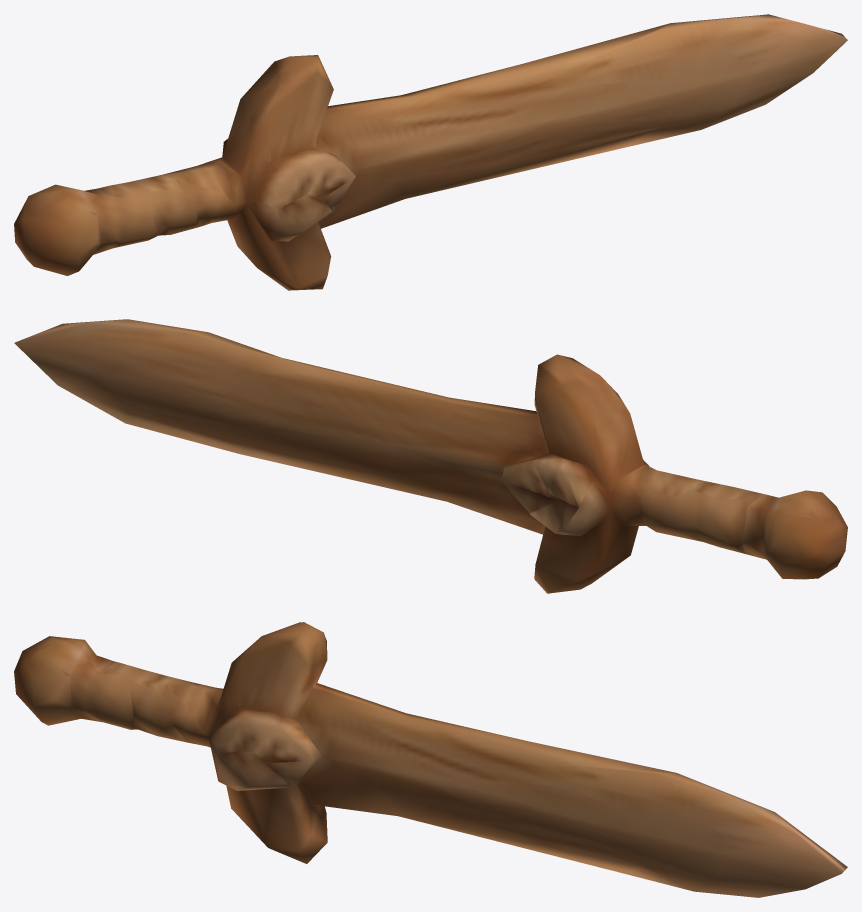
File: Sword.glb
3 views of the same model, one above another, from view 1: azimuth 30°, elevation 25°; view 2: azimuth 150°, elevation 25°; view 3: azimuth 330°, elevation 25° (orthographic).
Parts seen in each view (by area): view 1: Sword; view 2: Sword; view 3: Sword.
Boxes of the visible parts, left/top/right/bottom form: Sword: left=14, top=14, right=847, bottom=290; Sword: left=14, top=319, right=847, bottom=593; Sword: left=14, top=622, right=847, bottom=897.
Bounding box in the file's own units: 1 × 0.2683 × 0.1276.
1 material, 1 textured.
